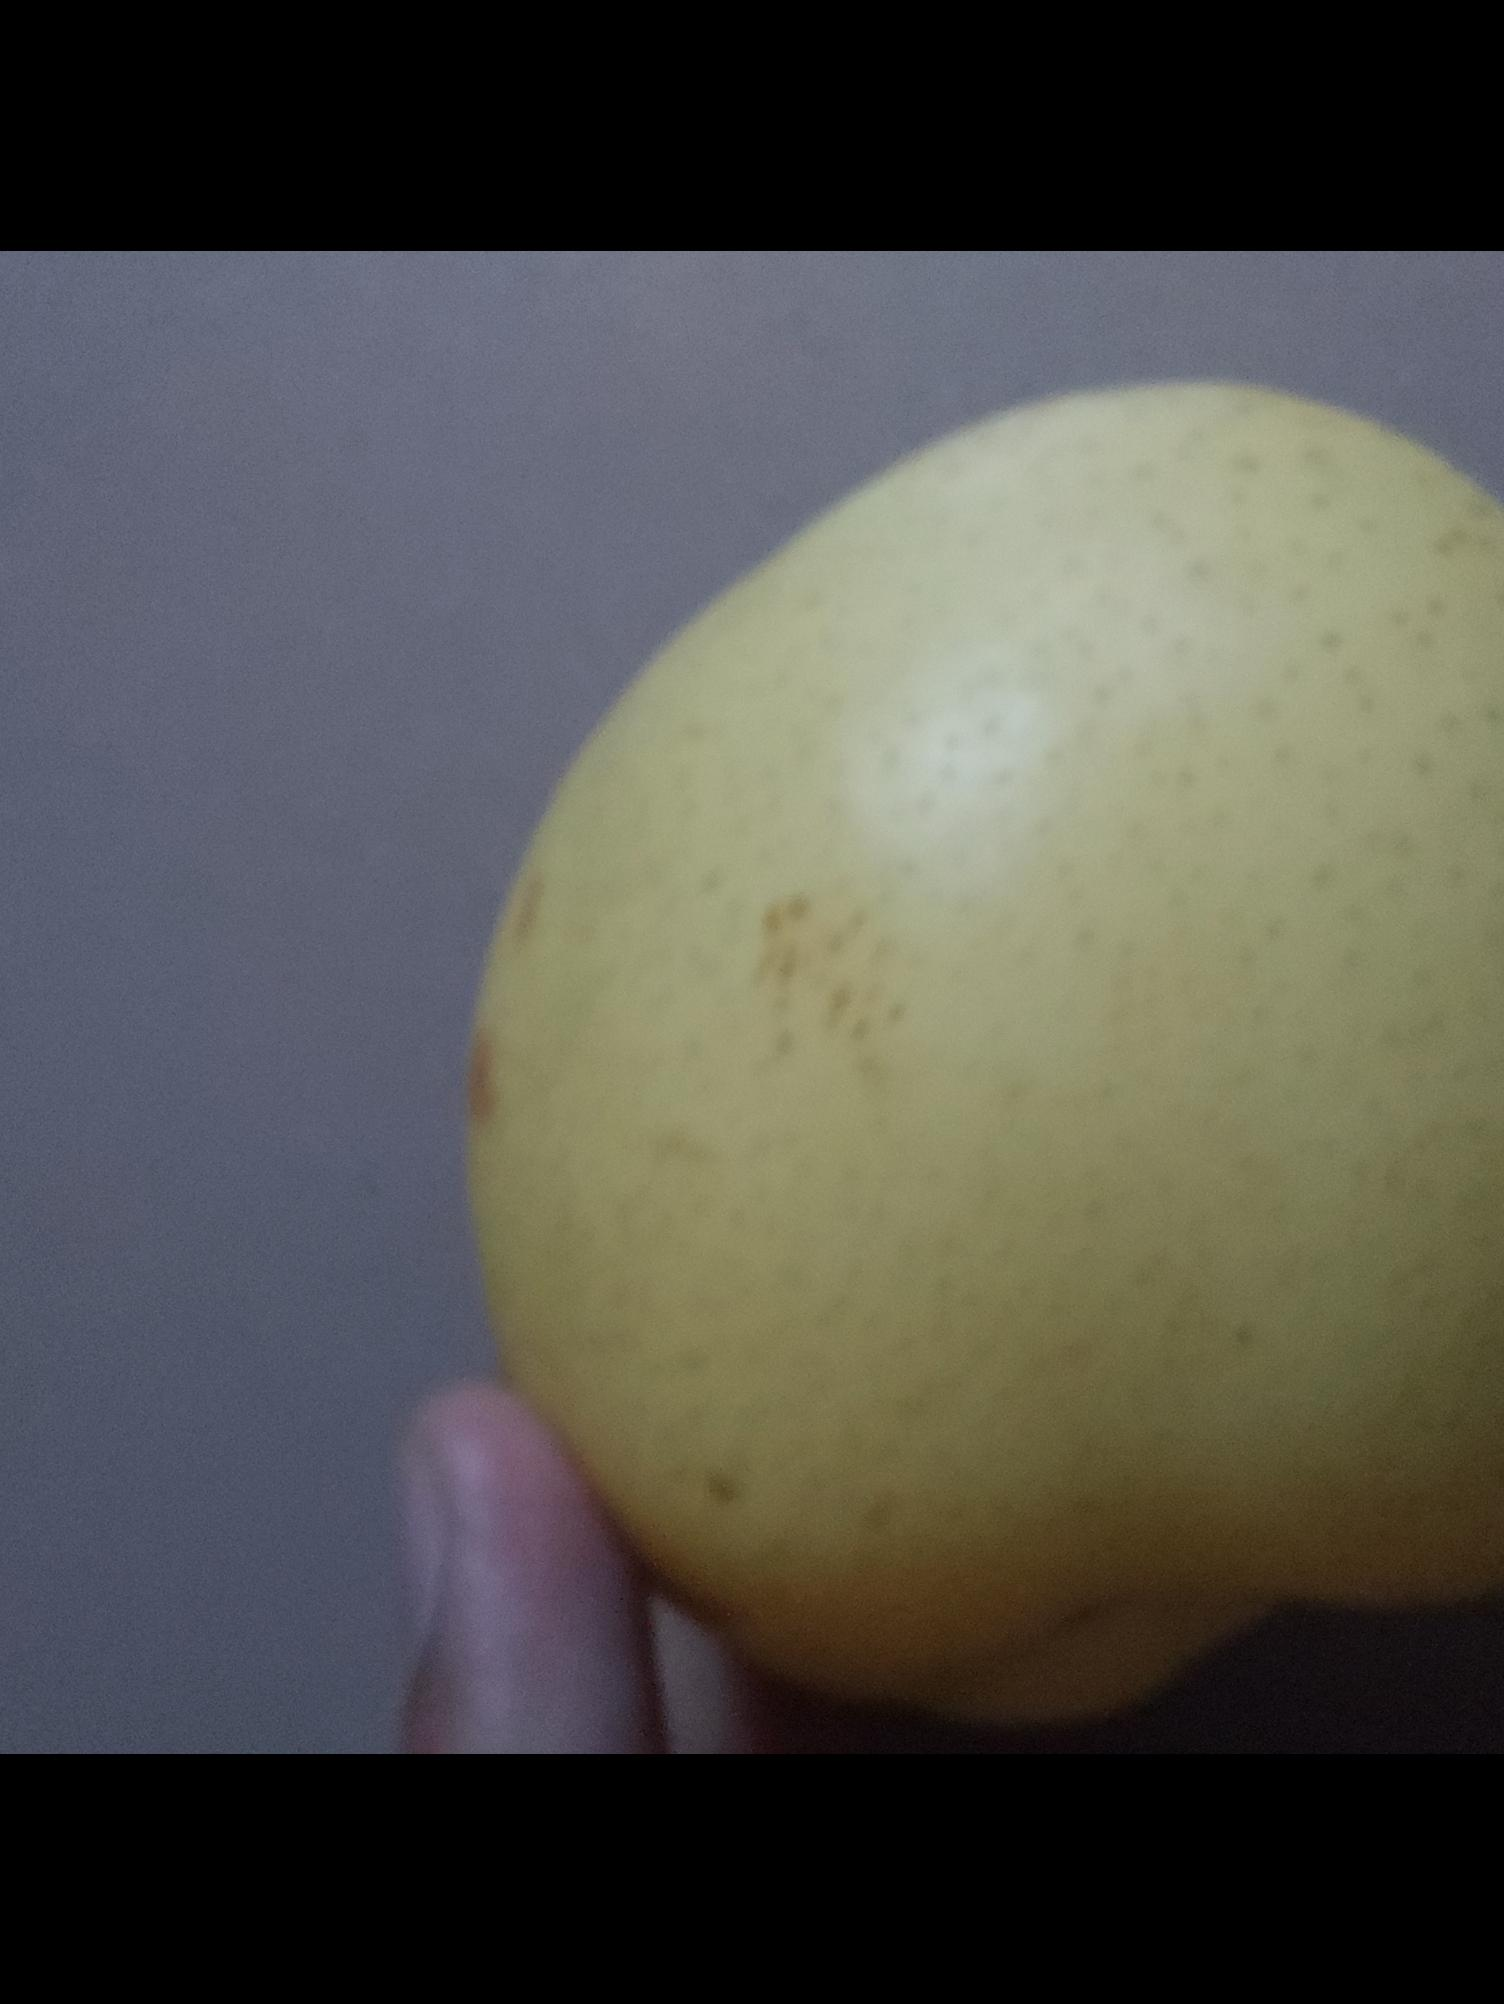Good Pear: (453, 374, 1504, 1728)
